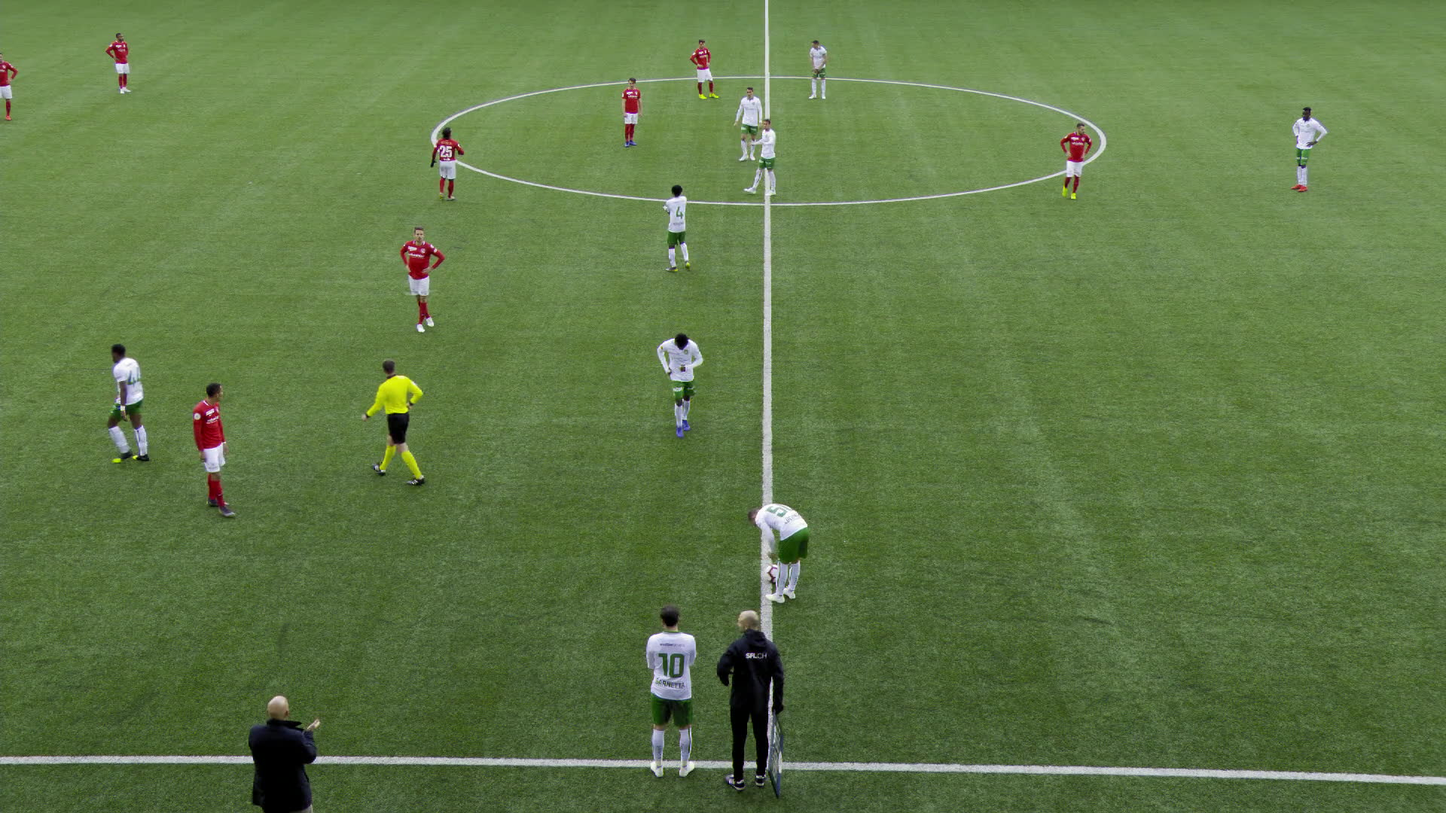ball: (764, 563, 778, 583)
player: (643, 602, 703, 778), (188, 379, 238, 519), (746, 502, 811, 604), (104, 342, 151, 463), (395, 224, 445, 333), (656, 330, 703, 443), (1288, 105, 1328, 193), (428, 126, 468, 204), (740, 117, 777, 198), (1055, 122, 1092, 202), (660, 184, 691, 276), (731, 85, 764, 162), (688, 38, 719, 99), (618, 76, 643, 148), (104, 32, 132, 95), (804, 38, 830, 99), (0, 50, 17, 122)
referee: (358, 355, 426, 488)
